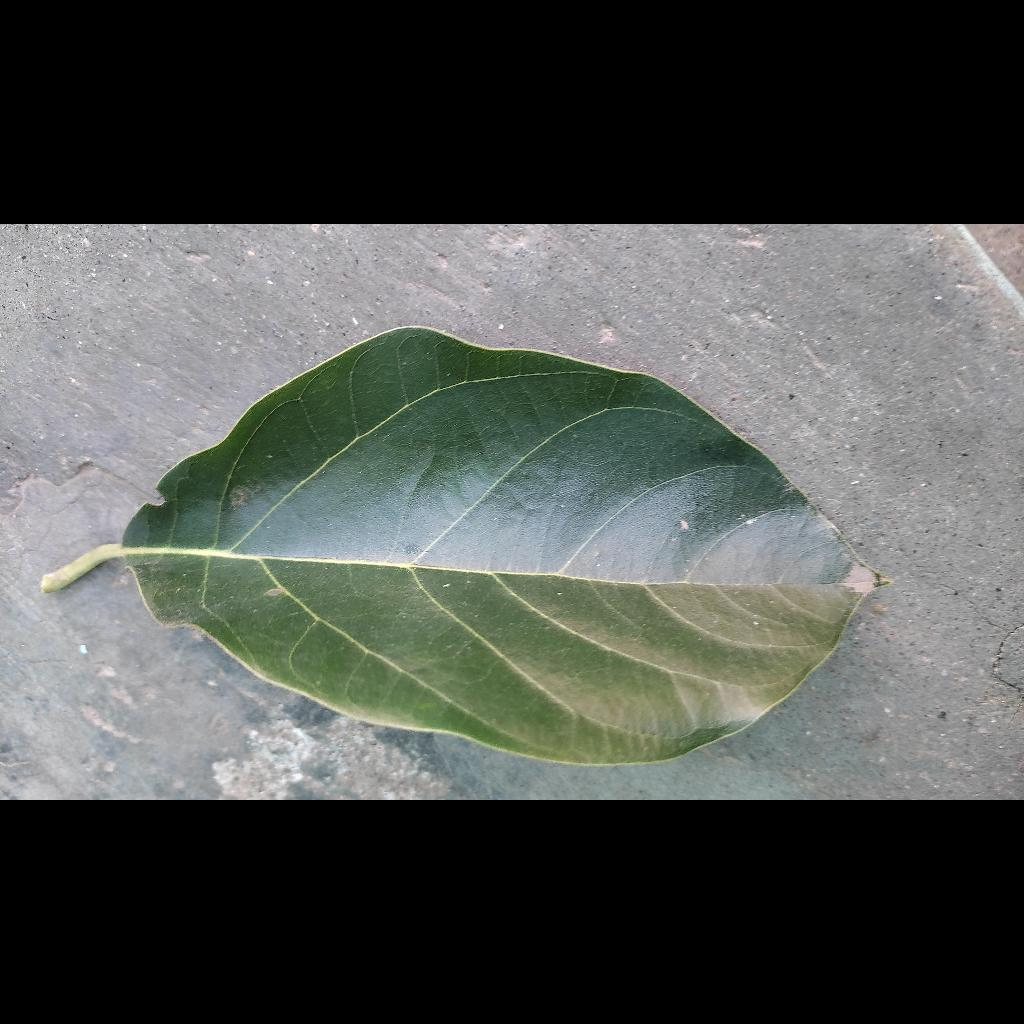hoja_sana: (141, 259, 982, 696)
